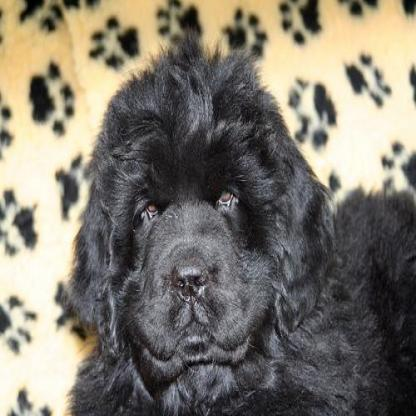Newfoundland: (57, 27, 414, 413)
